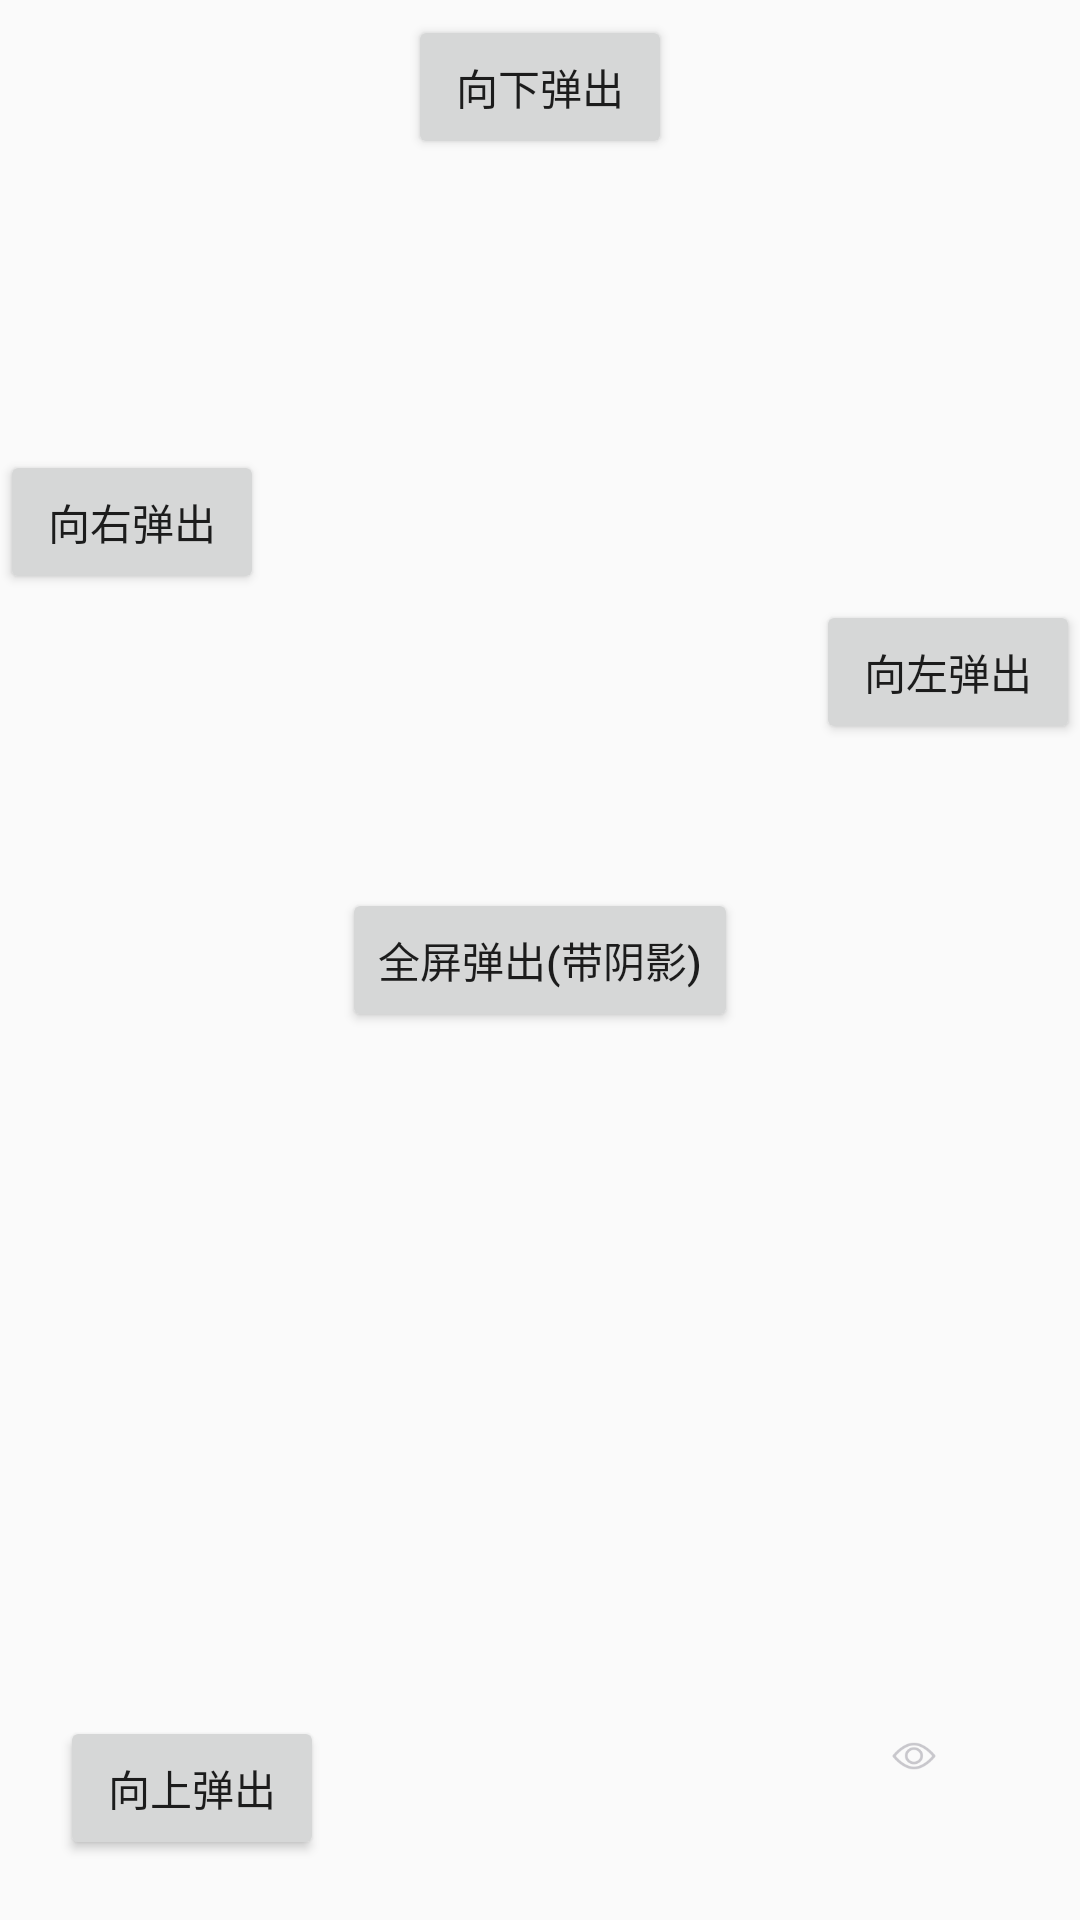

Named icons in this screenshot (1080 x 1920) and their centers, (x,y):
look pwd: (914,1756)
